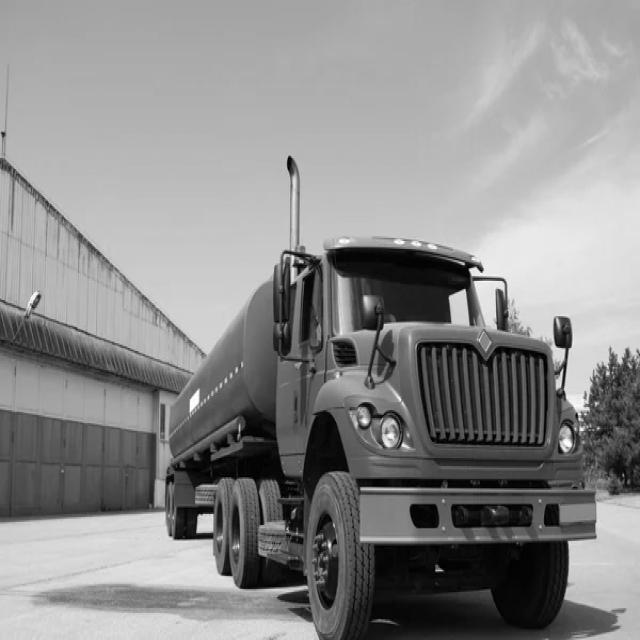Truck: (165, 160, 598, 639)
